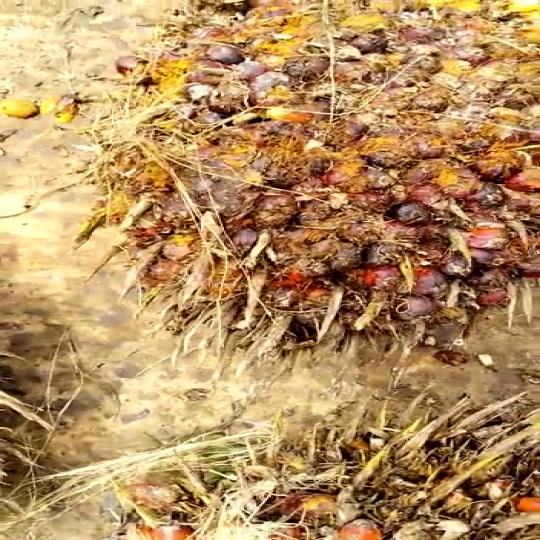masak: (102, 0, 540, 363)
